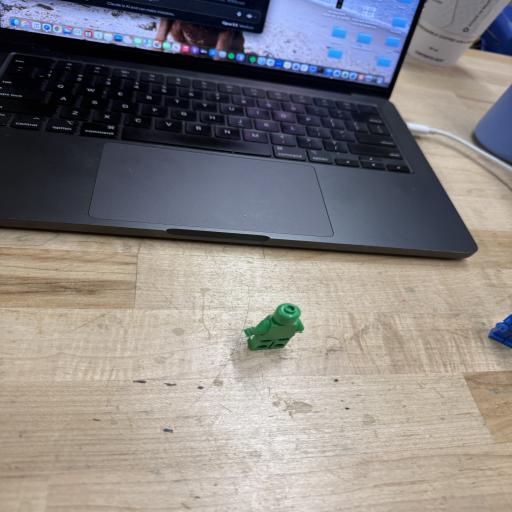blue-minifig: (488, 315, 512, 348)
green-minifig: (244, 303, 304, 350)
